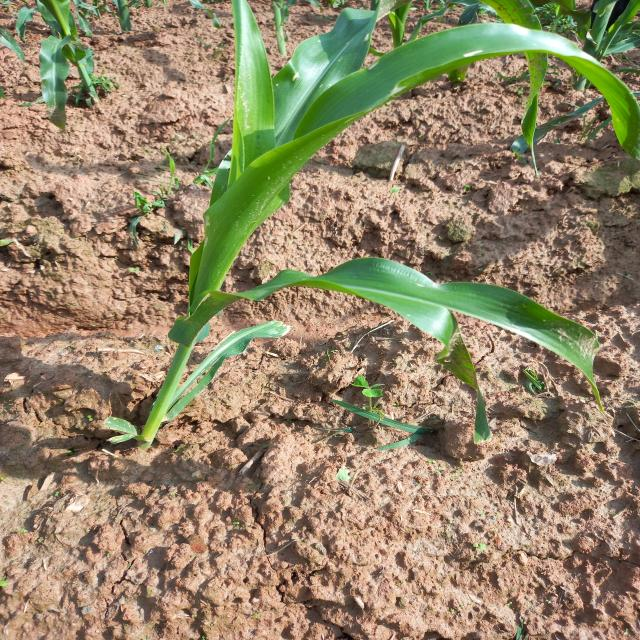maize: (133, 0, 636, 465), (0, 0, 121, 123)
weed: (126, 151, 212, 227), (346, 358, 401, 409), (510, 362, 557, 400), (467, 178, 483, 192)
